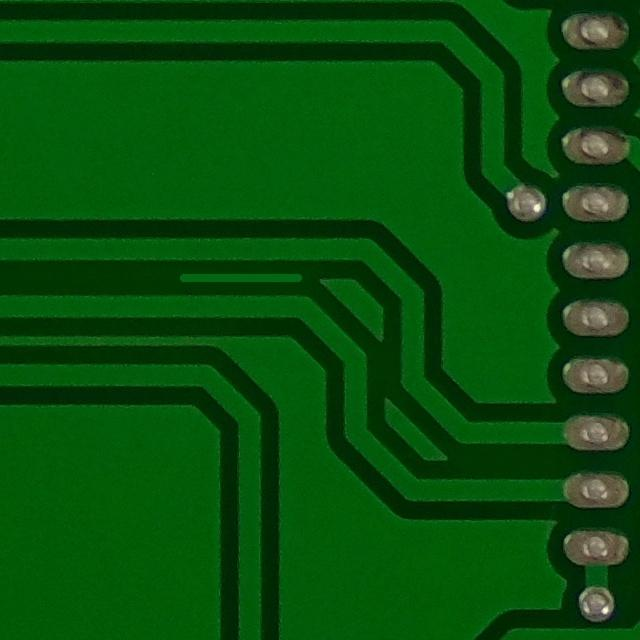spurious_copper: (163, 260, 310, 299)
